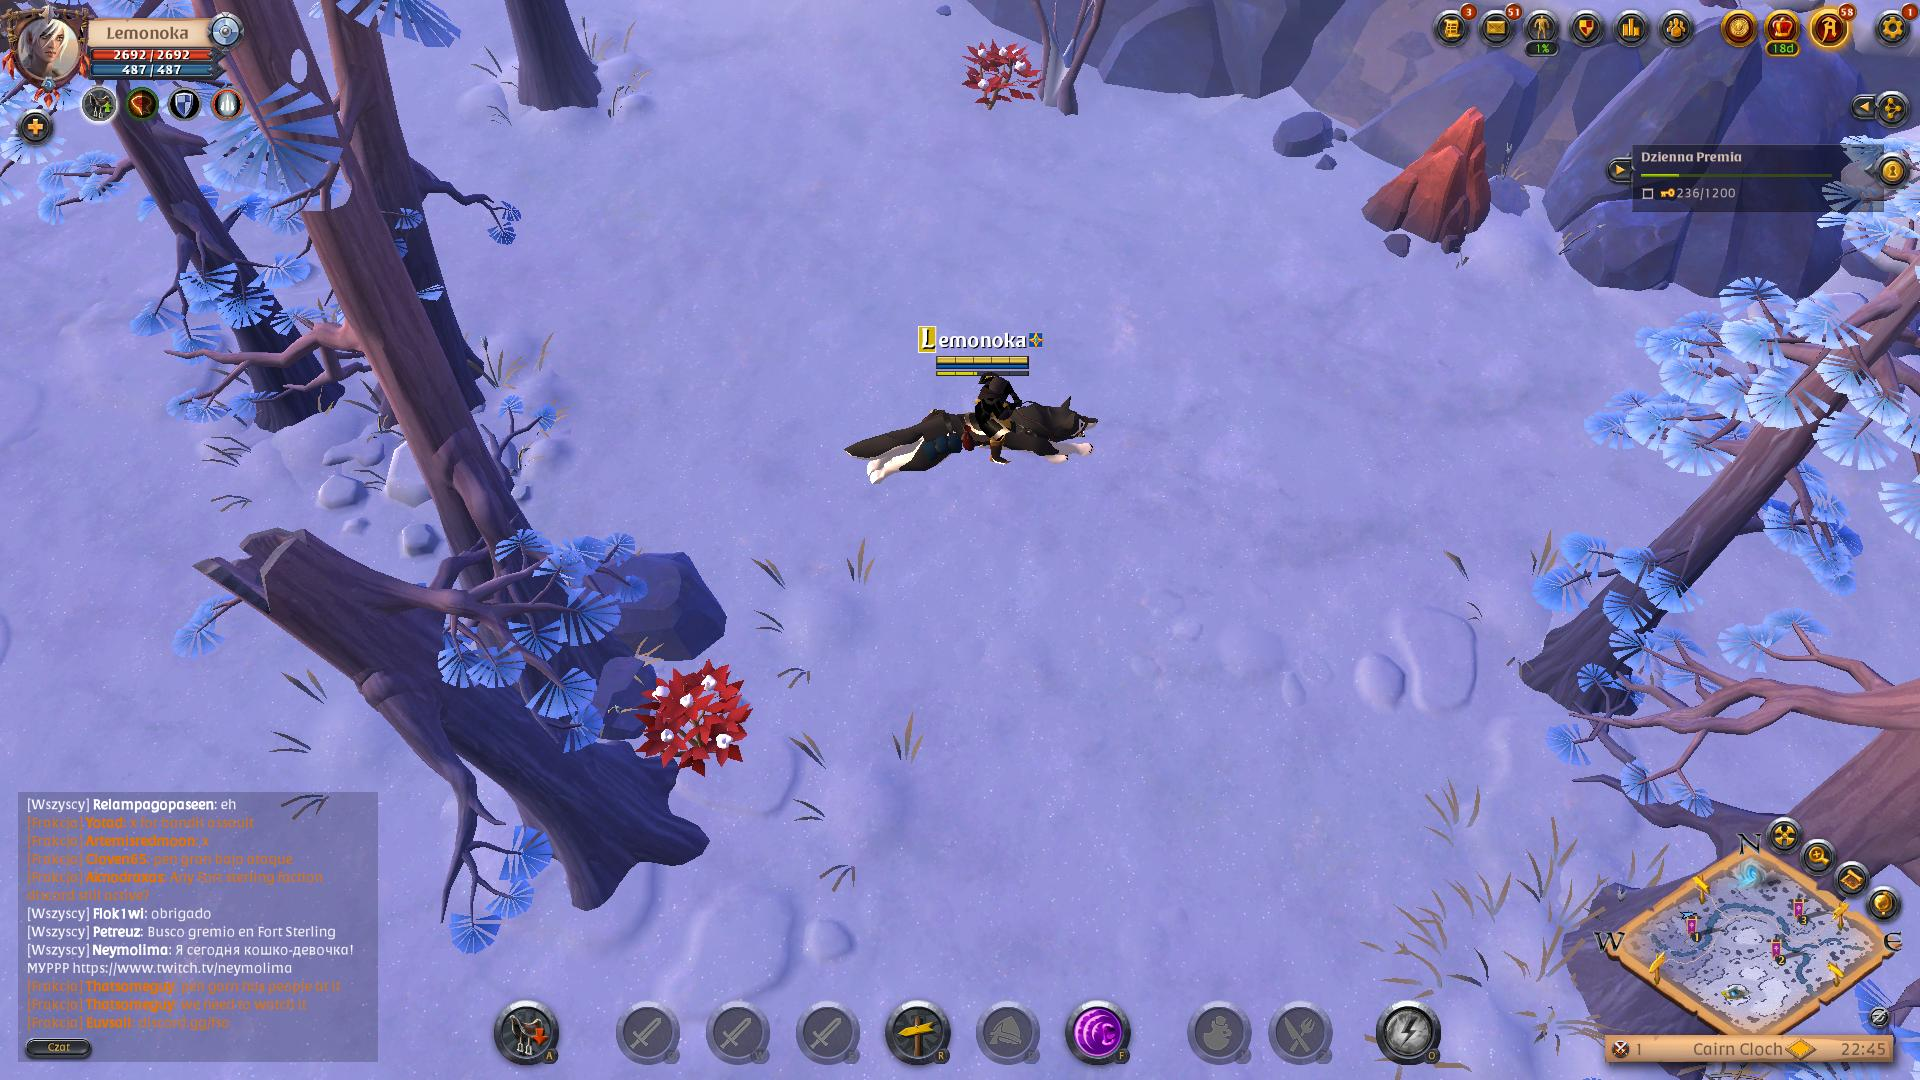fiber tier 5: (637, 655, 750, 782), (957, 37, 1055, 125)
rock tier 5: (1364, 102, 1501, 265)
